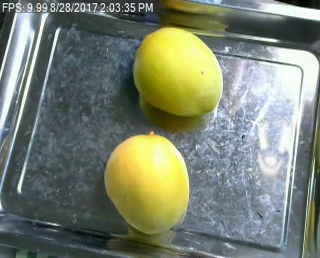Mango: (103, 127, 202, 234), (132, 23, 225, 122)
